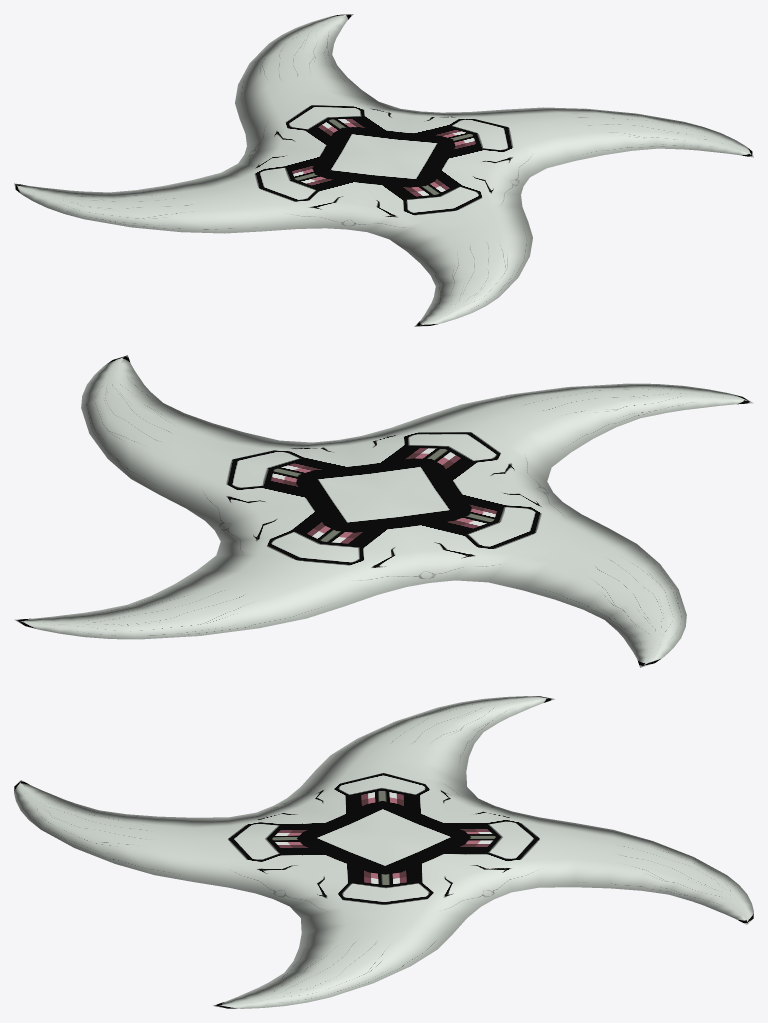
The model's file is rasen.FBX.
The picture shows the model from 3 angles, top to bottom: view 1: azimuth 30°, elevation 25°; view 2: azimuth 150°, elevation 25°; view 3: azimuth 270°, elevation 25°; orthographic projection. The views are drawn at different scales.
Visible parts, largest first — view 1: rasenshuriken; view 2: rasenshuriken; view 3: rasenshuriken.
Part boxes in pixels (x1=…): rasenshuriken: x1=14, y1=14, x2=753, y2=326; rasenshuriken: x1=14, y1=355, x2=753, y2=667; rasenshuriken: x1=14, y1=696, x2=753, y2=1008.
Bounding box in the file's own units: 43.82 × 2.09 × 43.82.
